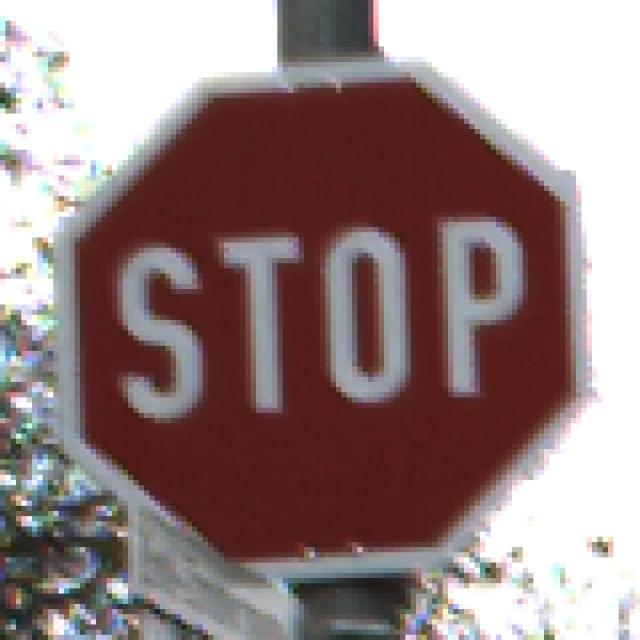stop: (50, 70, 589, 580)
